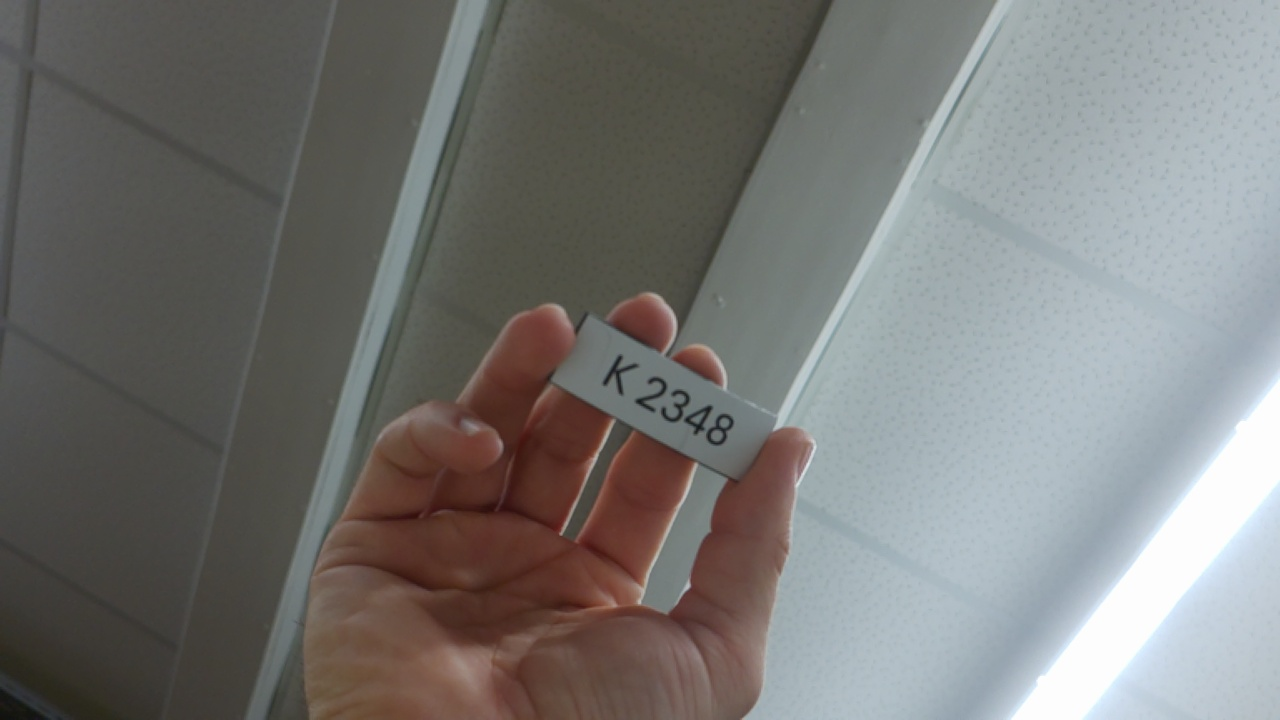license_plate: (536, 293, 785, 488)
